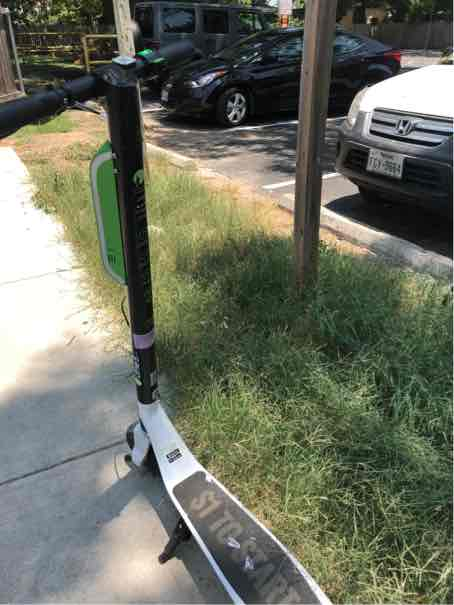scooter: (9, 53, 416, 605)
